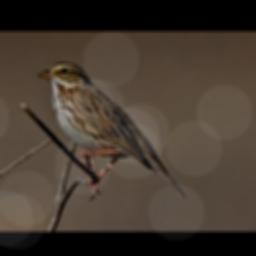Sparrow: (38, 61, 188, 201)
